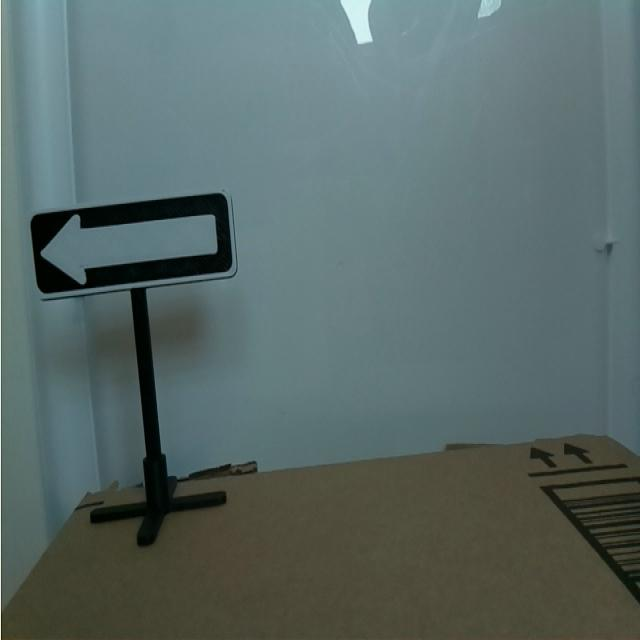sign_oneway_left: (24, 184, 247, 315)
